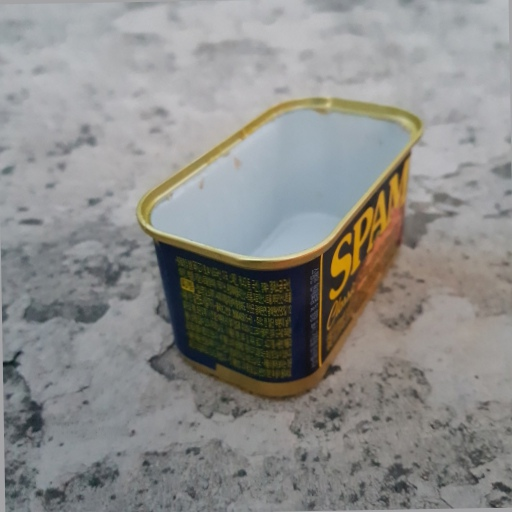Metal_2: (135, 95, 423, 395)
